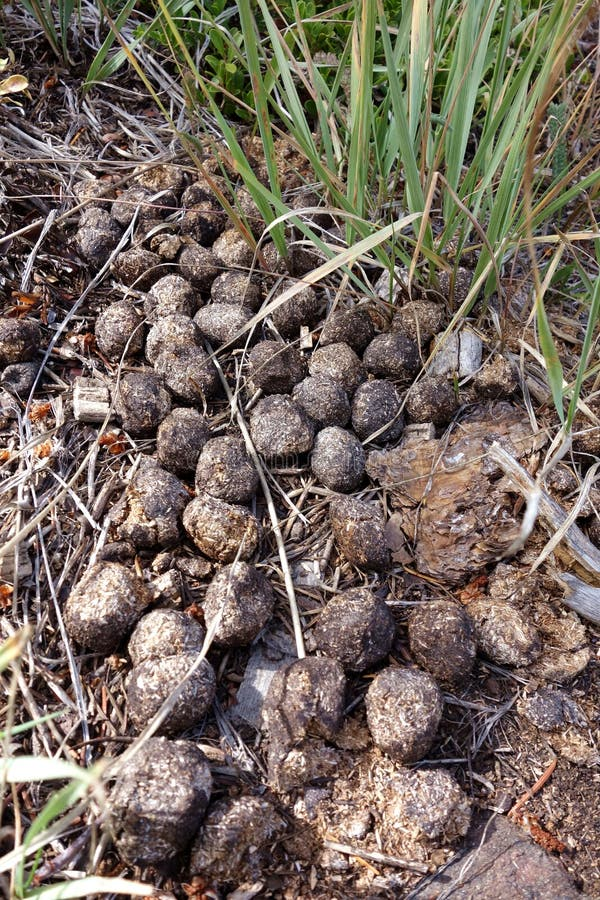Elk: (76, 197, 455, 821)
